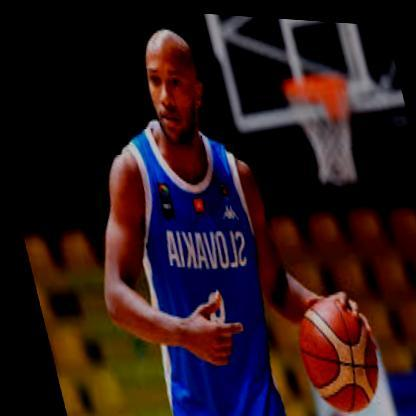basketball: (283, 289, 381, 415)
